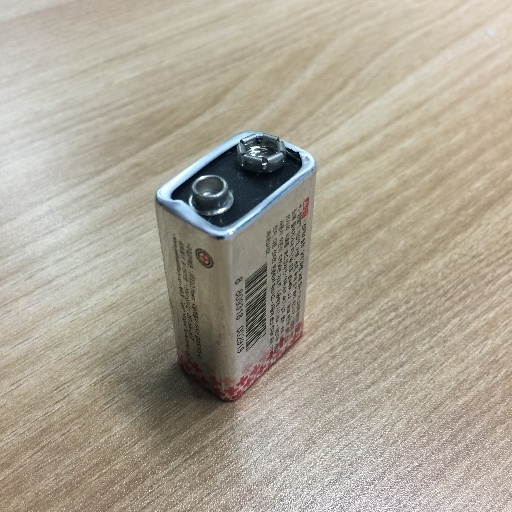Battery_3: (137, 97, 337, 402)
